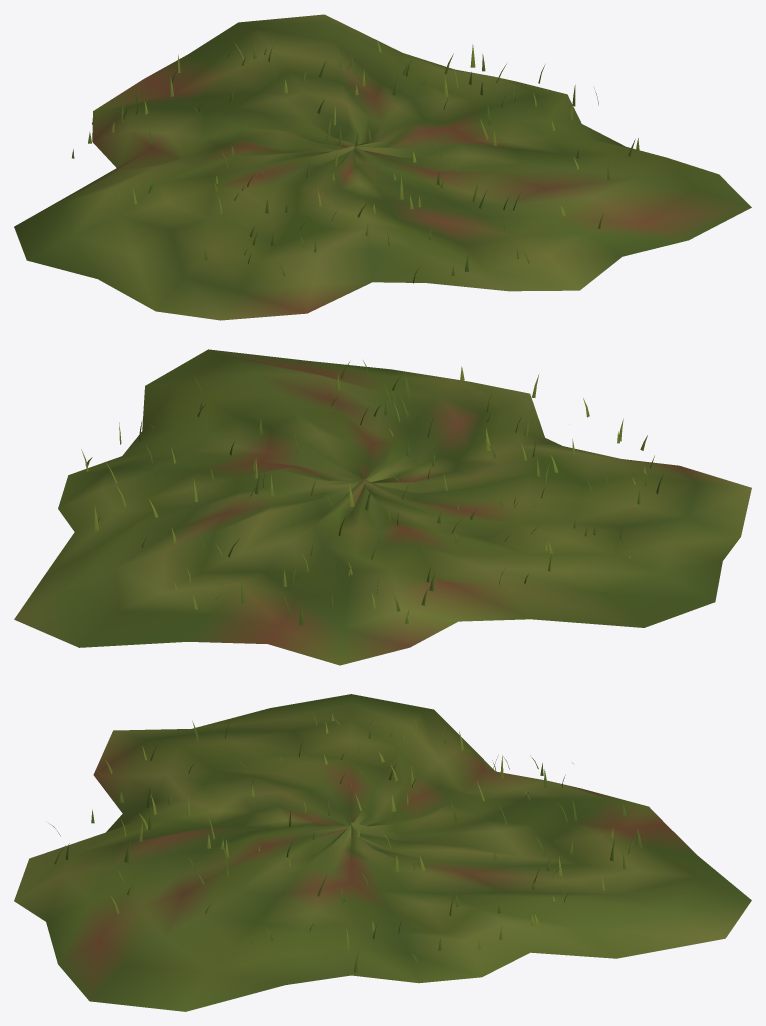
Rendered from moss.glb.
3 renders of one model, top to bottom at view 1: azimuth 30°, elevation 25°; view 2: azimuth 150°, elevation 25°; view 3: azimuth 270°, elevation 25°, orthographic. The views are drawn at different scales.
Parts seen in each view (by area): view 1: moss; view 2: moss; view 3: moss.
Part boxes in pixels (<box>): moss: <box>14,14,751,320</box>; moss: <box>14,349,751,665</box>; moss: <box>14,694,751,1011</box>.
Bounding box in the file's own units: 1.01 × 0.0855 × 1.01.
